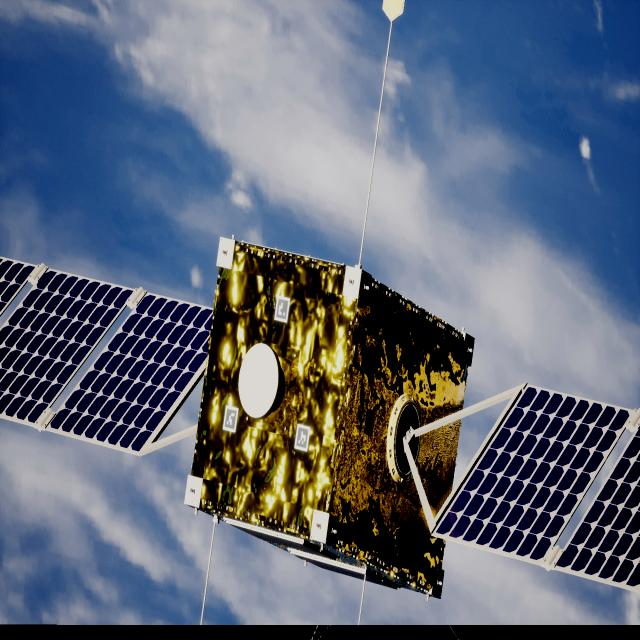medium_debris: (0, 239, 640, 599)
